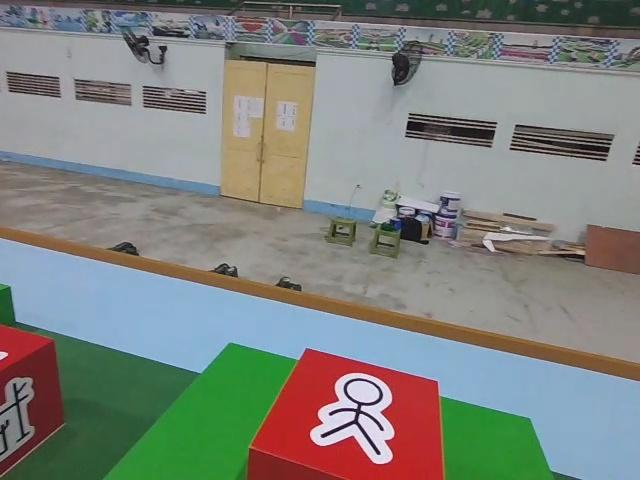R2 Real: (246, 344, 447, 480), (0, 319, 68, 480)
